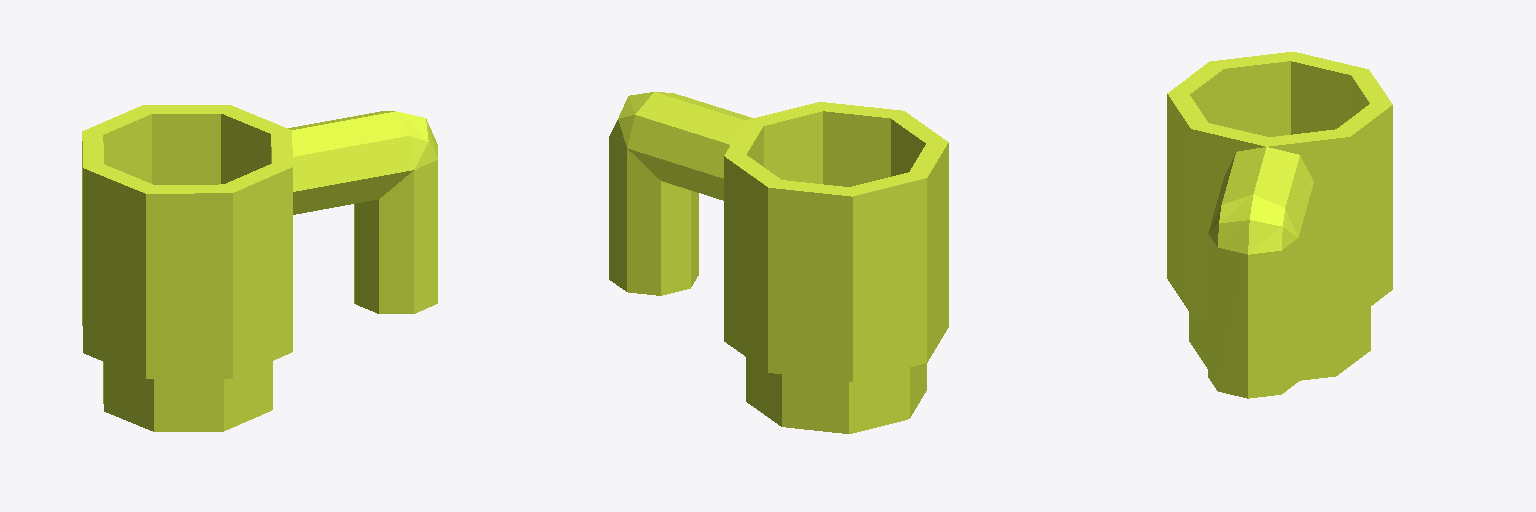
3 views of the same model, side by side, from view 1: azimuth 30°, elevation 25°; view 2: azimuth 150°, elevation 25°; view 3: azimuth 270°, elevation 25° (orthographic).
Parts seen in each view (by area): view 1: Mesh_0034_Mesh_0034Mesh; view 2: Mesh_0034_Mesh_0034Mesh; view 3: Mesh_0034_Mesh_0034Mesh.
Part boxes in pixels (x1,y1,x2,y2): Mesh_0034_Mesh_0034Mesh: (82,105,437,431); Mesh_0034_Mesh_0034Mesh: (609,92,948,433); Mesh_0034_Mesh_0034Mesh: (1167,52,1392,398).
Bounding box in the file's own units: 0.1286 × 0.0914 × 0.0757.
1 materials, 1 textured.